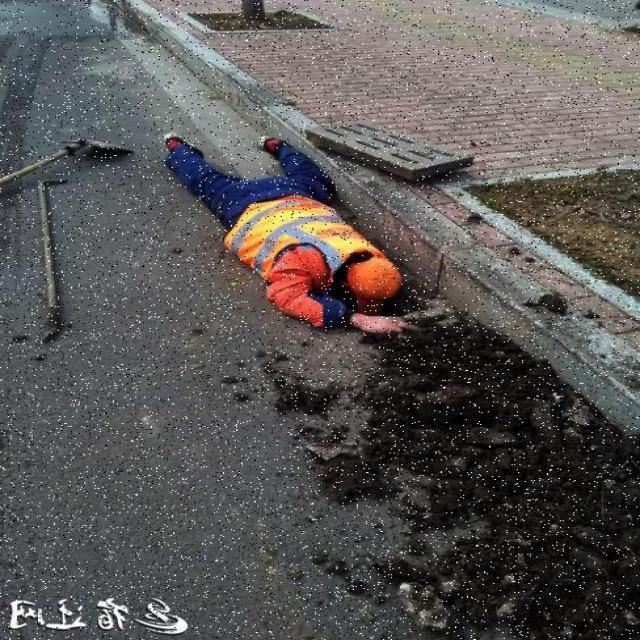fall: (157, 128, 420, 334)
